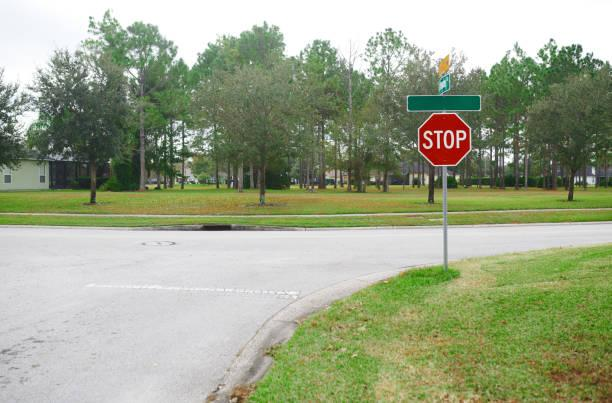Pole: (441, 166, 448, 268)
Sign: (418, 113, 472, 166)
